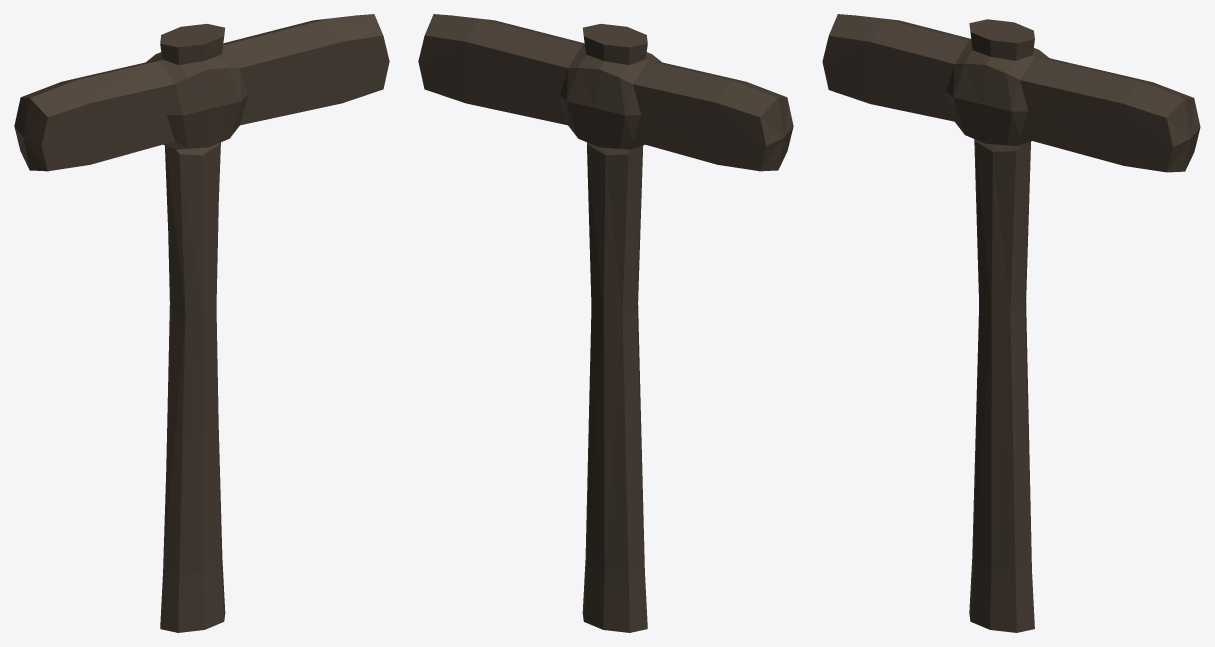
The model's file is doublehammer.obj.
The picture shows the model from 3 angles, left to right: view 1: azimuth 30°, elevation 25°; view 2: azimuth 150°, elevation 25°; view 3: azimuth 330°, elevation 25°; orthographic projection.
Parts seen in each view (by area): view 1: product-9338a7b5-2841-4cb9-b3c0-6a89a902eee9-body; view 2: product-9338a7b5-2841-4cb9-b3c0-6a89a902eee9-body; view 3: product-9338a7b5-2841-4cb9-b3c0-6a89a902eee9-body.
Part boxes in pixels (x1,y1,x2,y2): product-9338a7b5-2841-4cb9-b3c0-6a89a902eee9-body: [14, 14, 389, 632]; product-9338a7b5-2841-4cb9-b3c0-6a89a902eee9-body: [418, 14, 793, 632]; product-9338a7b5-2841-4cb9-b3c0-6a89a902eee9-body: [822, 14, 1200, 632].
Size of the model in its own units: 0.1924 by 0.3024 by 0.0365.
